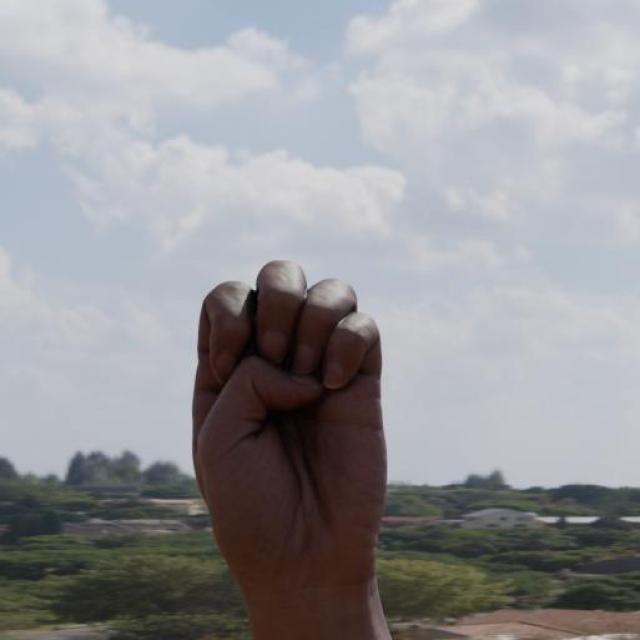E: (187, 258, 392, 587)
